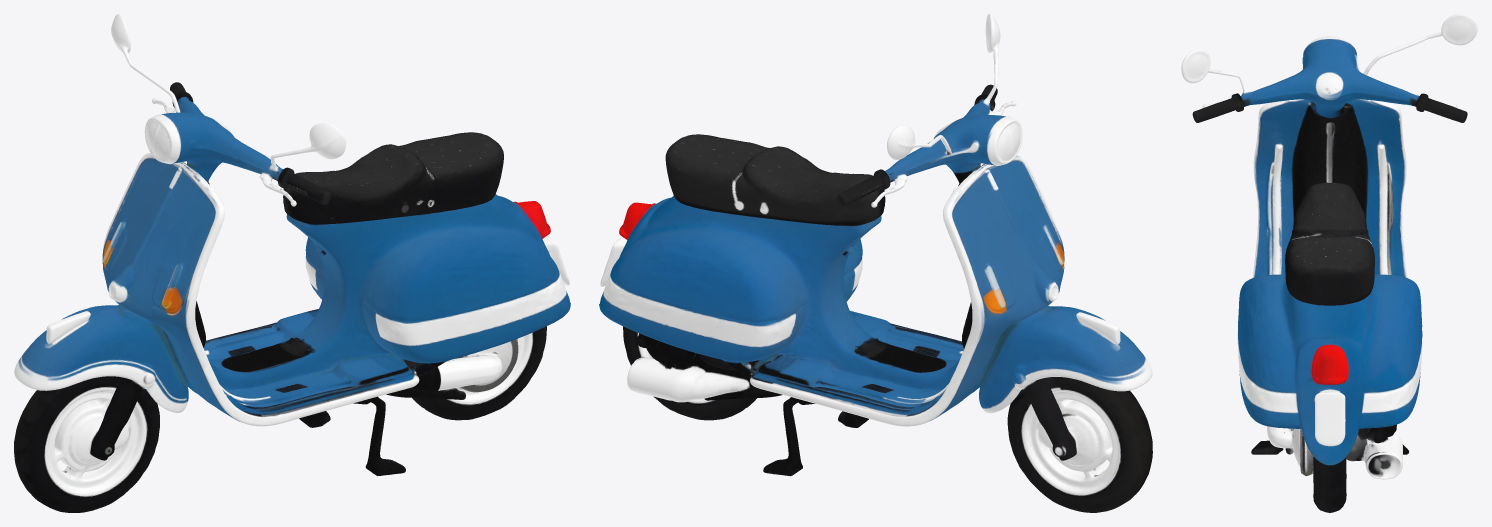
File: vespa-super.glb
3 views of the same model, side by side, from view 1: azimuth 30°, elevation 25°; view 2: azimuth 150°, elevation 25°; view 3: azimuth 270°, elevation 25° (orthographic). The views are drawn at different scales.
Bounding box in the file's own units: 1.9 × 1.36 × 0.987.
1 material, 1 textured.
